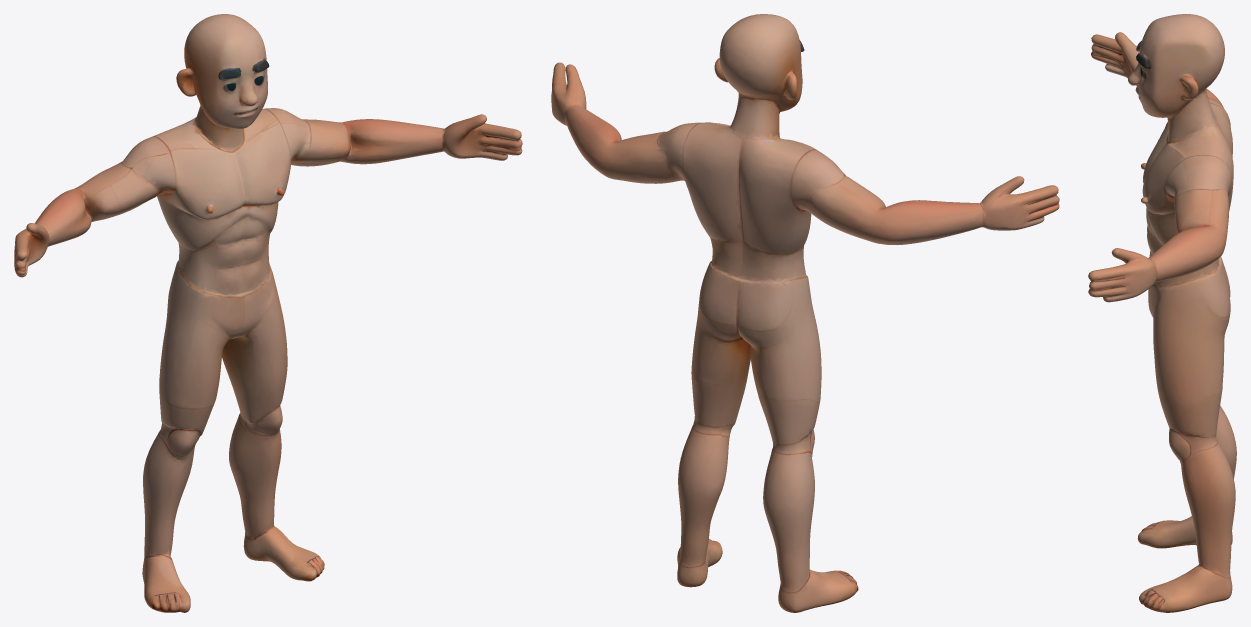
File: goat_base_human_v2.glb
3 renders of one model, left to right at view 1: azimuth 30°, elevation 25°; view 2: azimuth 150°, elevation 25°; view 3: azimuth 270°, elevation 25°, orthographic.
Parts seen in each view (by area): view 1: tripo_node_12e68761-f442-4e0f-aad4-3530029c882d; view 2: tripo_node_12e68761-f442-4e0f-aad4-3530029c882d; view 3: tripo_node_12e68761-f442-4e0f-aad4-3530029c882d.
Part boxes in pixels (x1,y1,x2,y2): tripo_node_12e68761-f442-4e0f-aad4-3530029c882d: (14,14,522,612); tripo_node_12e68761-f442-4e0f-aad4-3530029c882d: (551,14,1059,612); tripo_node_12e68761-f442-4e0f-aad4-3530029c882d: (1088,14,1236,612).
Bounding box in the file's own units: 0.9346 × 0.9999 × 0.2418.
Materials: 1 (1 with a texture image).
